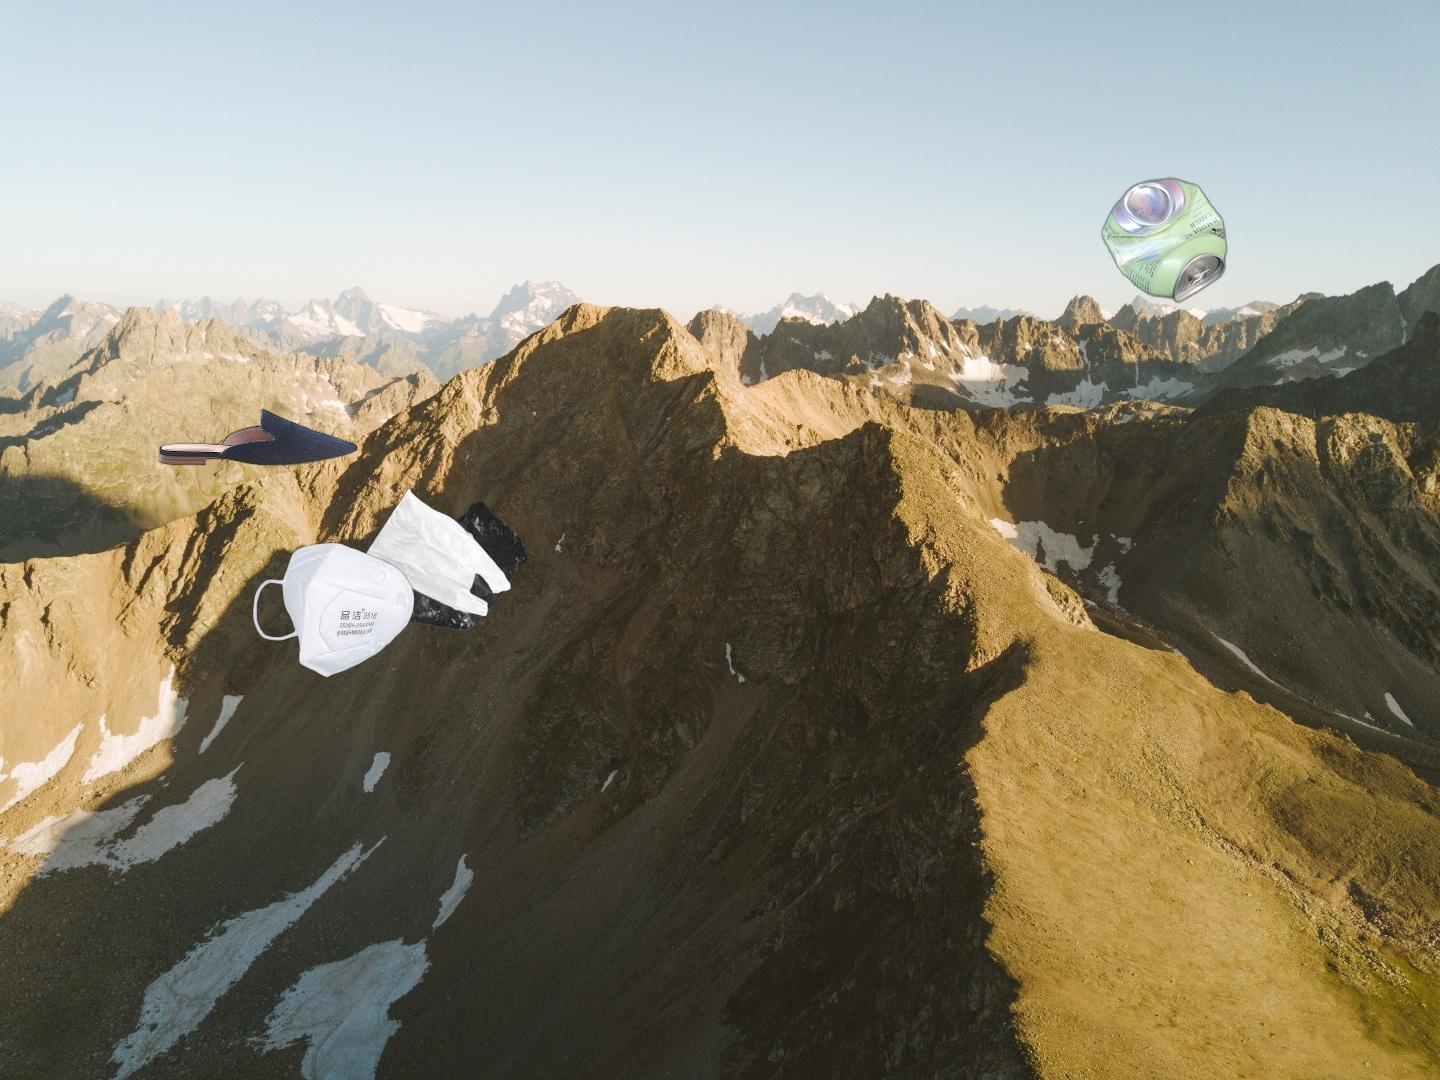metal-cans: (1096, 172, 1233, 307)
paper-bag: (104, 1062, 375, 1080)
plastic-bag: (362, 486, 531, 632)
shoes: (156, 406, 361, 469)
trash: (249, 540, 454, 680)
